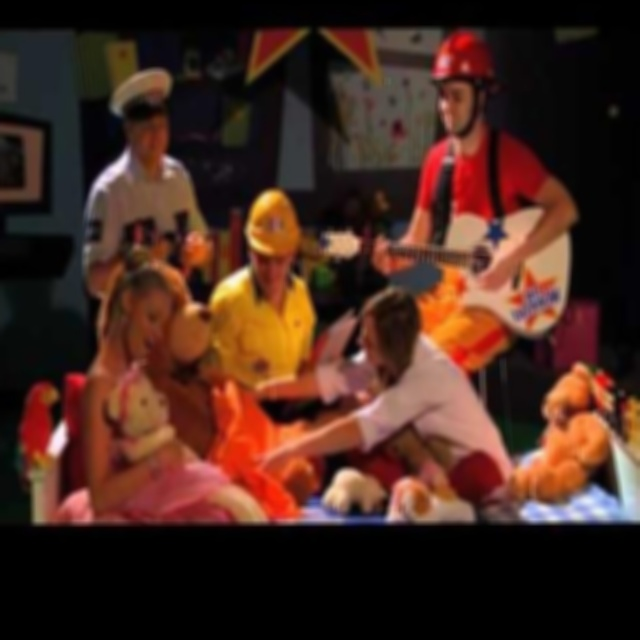Con_Casco: (430, 28, 495, 136), (244, 193, 299, 288)
